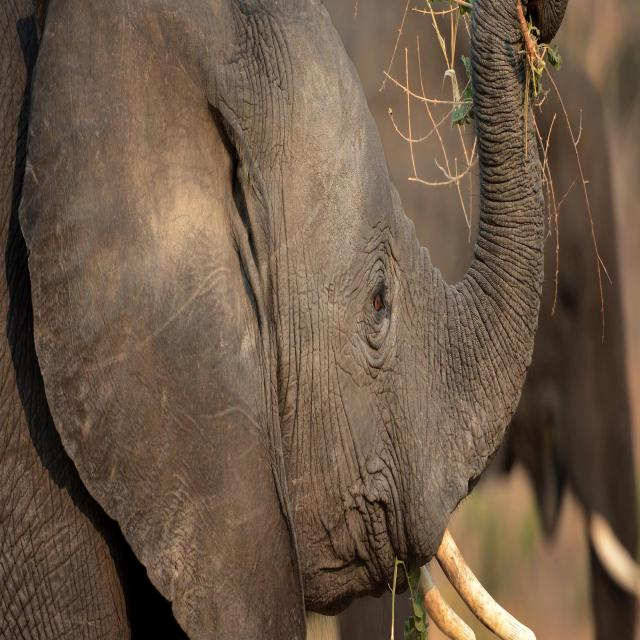Elephant: (0, 0, 569, 639)
